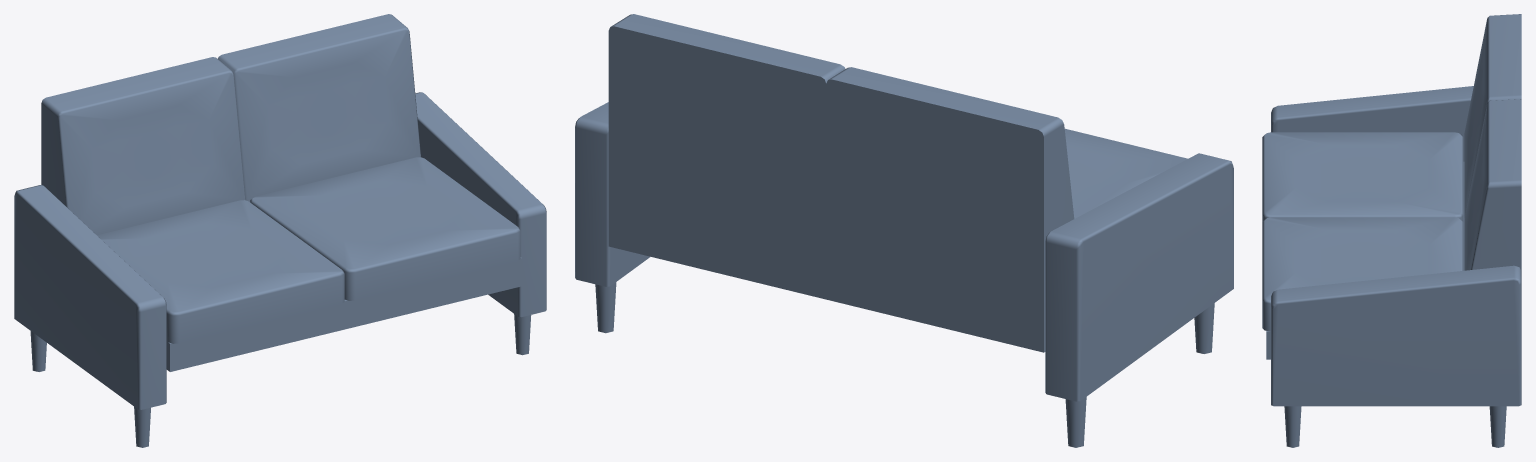
The model's file is SM_ArmChair_01.fbx.
3 renders of one model, left to right at view 1: azimuth 30°, elevation 25°; view 2: azimuth 150°, elevation 25°; view 3: azimuth 270°, elevation 25°, orthographic. The views are drawn at different scales.
Visible parts, largest first — view 1: ArmChair_01; view 2: ArmChair_01; view 3: ArmChair_01.
Boxes of the visible parts, x1,y1,x2,y2 form: ArmChair_01: [14, 14, 546, 447]; ArmChair_01: [575, 14, 1233, 447]; ArmChair_01: [1262, 14, 1521, 447].
Bounding box in the file's own units: 139 × 84.12 × 77.28.
